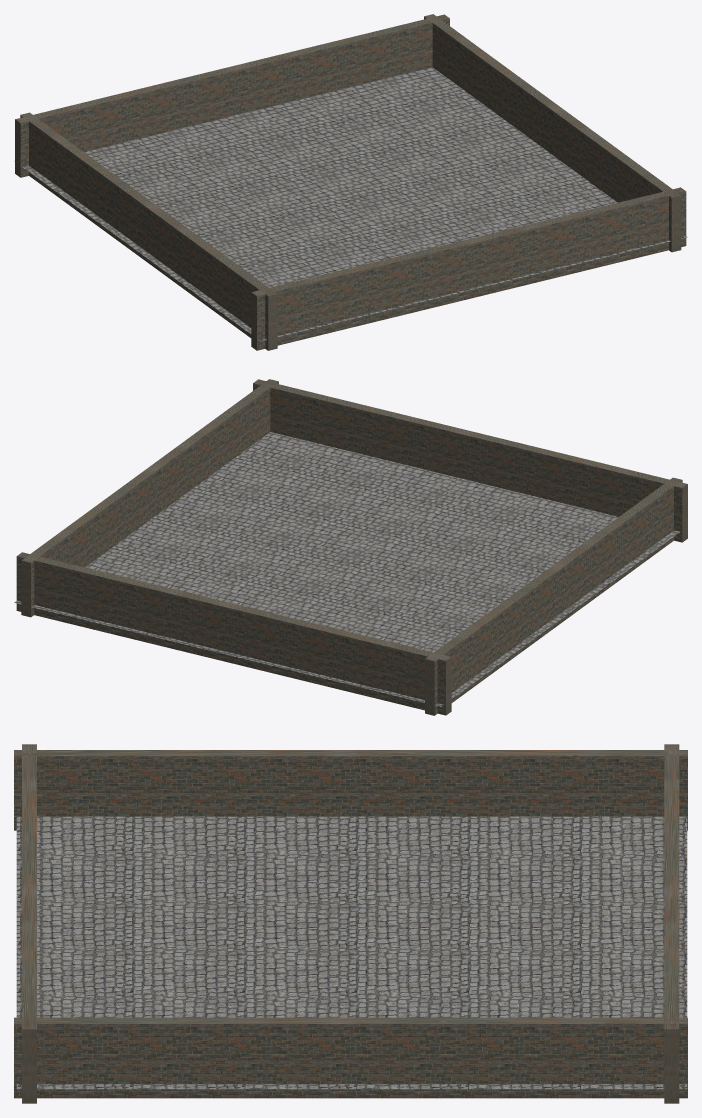
File: playground.fbx
3 renders of one model, top to bottom at view 1: azimuth 30°, elevation 25°; view 2: azimuth 150°, elevation 25°; view 3: azimuth 270°, elevation 25°, orthographic. The views are drawn at different scales.
Parts seen in each view (by area): view 1: Plane001; view 2: Plane001; view 3: Plane001.
Boxes of the visible parts, left/top/right/bottom form: Plane001: left=14, top=14, right=687, bottom=350; Plane001: left=14, top=379, right=687, bottom=715; Plane001: left=14, top=744, right=687, bottom=1103.
Bounding box in the file's own units: 16081 × 16081 × 1952.
2 materials, 2 textured.
